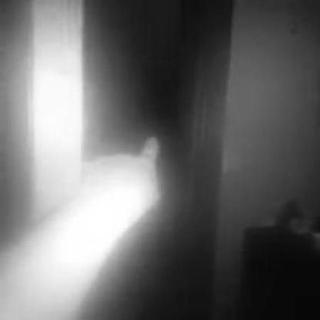other: (21, 178, 123, 284)
